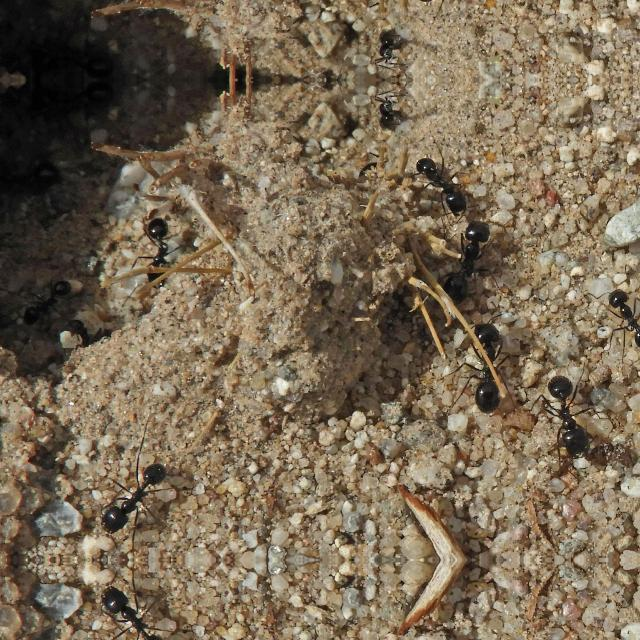Messor: (88, 455, 192, 543), (533, 367, 615, 473), (444, 320, 516, 412), (88, 577, 192, 640), (400, 154, 480, 226), (127, 218, 181, 284), (445, 223, 497, 287), (603, 279, 639, 357), (13, 278, 72, 322), (360, 83, 410, 133), (360, 27, 410, 77), (60, 310, 100, 358)
